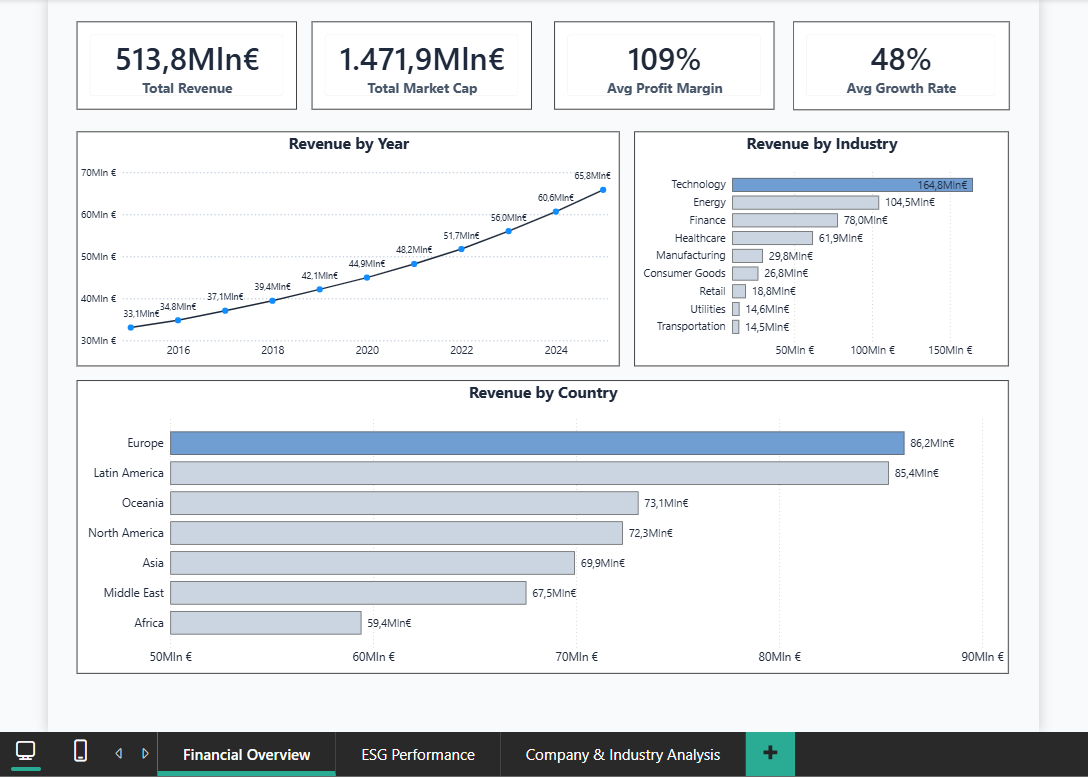

Layout of this report page (visuals, bound fields, positions):
{"tool":"powerbi","page":{"name":"Financial Overview","canvas":[1350,1000],"ordinal":0},"visuals":[{"type":"cardVisual","fields":{"Data":["esg_financial_performance.Total Revenue"]},"box":[40,30,300,120],"z":0},{"type":"cardVisual","fields":{"Data":["Sum(esg_financial_performance.Market Cap)"]},"box":[360,30.9,300,120],"z":1000},{"type":"cardVisual","fields":{"Data":["Avg(esg_financial_performance.Profit MArgin %)"]},"box":[690,30.9,300,120],"z":2000},{"type":"lineChart","title":"Revenue by Year","fields":{"Y":["Sum(esg_financial_performance.Revenue)"],"Category":["esg_financial_performance.Year"]},"box":[40,180,740,320],"z":3000},{"type":"clusteredBarChart","title":"Revenue by Industry","fields":{"Y":["Sum(esg_financial_performance.Revenue)"],"Category":["esg_financial_performance.Industry"]},"box":[800,180,510,320],"z":4000},{"type":"clusteredBarChart","title":"Revenue by Country","fields":{"Y":["Sum(esg_financial_performance.Revenue)"],"Category":["esg_financial_performance.Region"]},"box":[40,520,1270,400],"z":5000},{"type":"cardVisual","fields":{"Data":["Avg(esg_financial_performance.Growth Rate)"]},"box":[1015.7,30.7,294.8,121],"z":6000}]}

Visuals, with their boxes on the page's 1350x1000 design canvas (x1, y1, x2, y2). These are canvas units, not pixel positions in the 1090x778 screenshot, which may show the page scaled, cropped or inside an application window:
cardVisual - esg_financial_performance.Total Revenue: {"x1": 40, "y1": 30, "x2": 340, "y2": 150}
cardVisual - Sum(esg_financial_performance.Market Cap): {"x1": 360, "y1": 31, "x2": 660, "y2": 151}
cardVisual - Avg(esg_financial_performance.Profit MArgin %): {"x1": 690, "y1": 31, "x2": 990, "y2": 151}
"Revenue by Year" lineChart: {"x1": 40, "y1": 180, "x2": 780, "y2": 500}
"Revenue by Industry" clusteredBarChart: {"x1": 800, "y1": 180, "x2": 1310, "y2": 500}
"Revenue by Country" clusteredBarChart: {"x1": 40, "y1": 520, "x2": 1310, "y2": 920}
cardVisual - Avg(esg_financial_performance.Growth Rate): {"x1": 1016, "y1": 31, "x2": 1310, "y2": 152}
